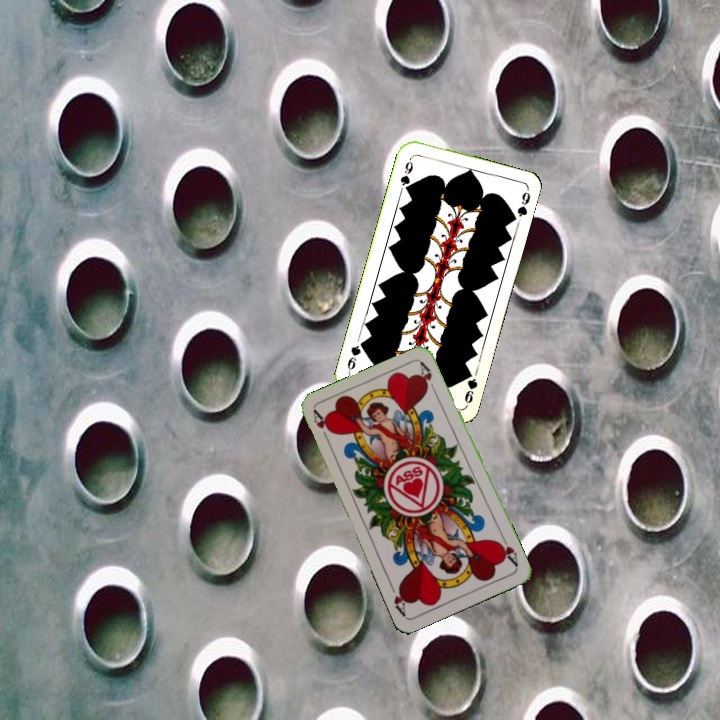G9: (460, 366, 480, 408), (396, 153, 416, 194)
HA: (493, 531, 521, 569), (309, 406, 335, 446)
